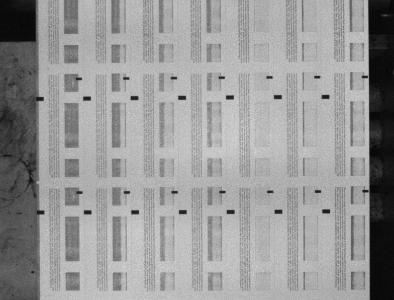backgroundclutter: (31, 270, 35, 273), (36, 181, 40, 184)
qblock: (178, 95, 186, 100), (179, 209, 187, 214), (322, 94, 330, 99), (227, 209, 235, 214), (130, 96, 139, 100), (131, 210, 140, 214), (322, 209, 331, 213), (84, 210, 92, 214), (37, 210, 45, 214), (83, 96, 91, 100), (226, 95, 234, 99), (274, 95, 282, 99), (36, 97, 44, 101), (275, 209, 283, 213)
smallqblock: (363, 189, 369, 193), (267, 190, 274, 193), (362, 75, 369, 78), (315, 190, 322, 193), (266, 76, 273, 79), (123, 77, 130, 80), (171, 76, 178, 79), (76, 191, 83, 194), (220, 190, 226, 193), (172, 190, 178, 193), (124, 191, 130, 194), (315, 75, 321, 78), (219, 76, 225, 79), (76, 77, 82, 80)
